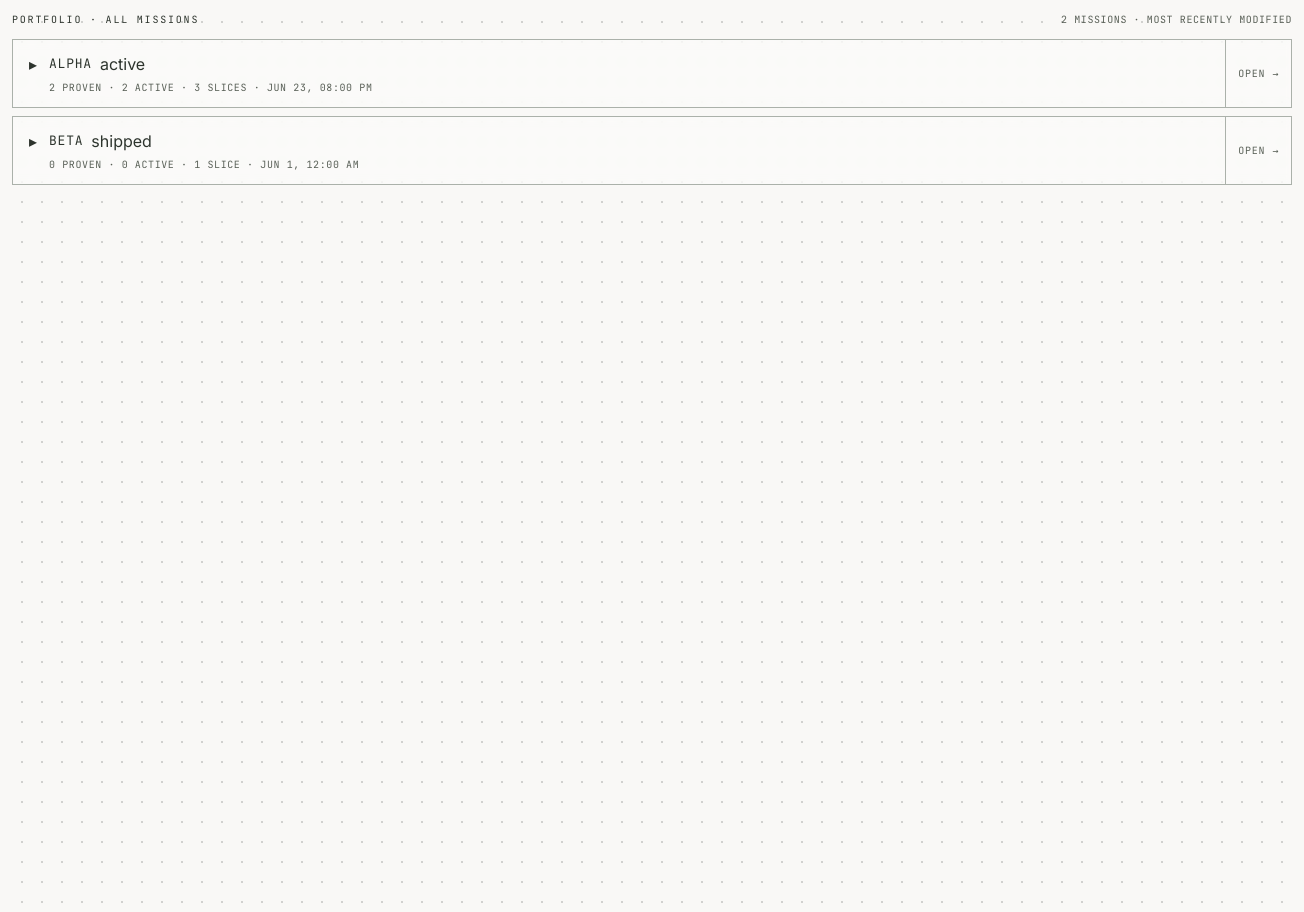
Test case: OPR.0.4.1.24 — workspace portfolio › AC-3: expanding a row LAZILY projects the mission's MISSION_BRIEF Building + Needs-you
This screenshot has width=1304, height=912.
Click the button with test id "portfolio-toggle-alpha": (70,64) [13,40,1225,107]
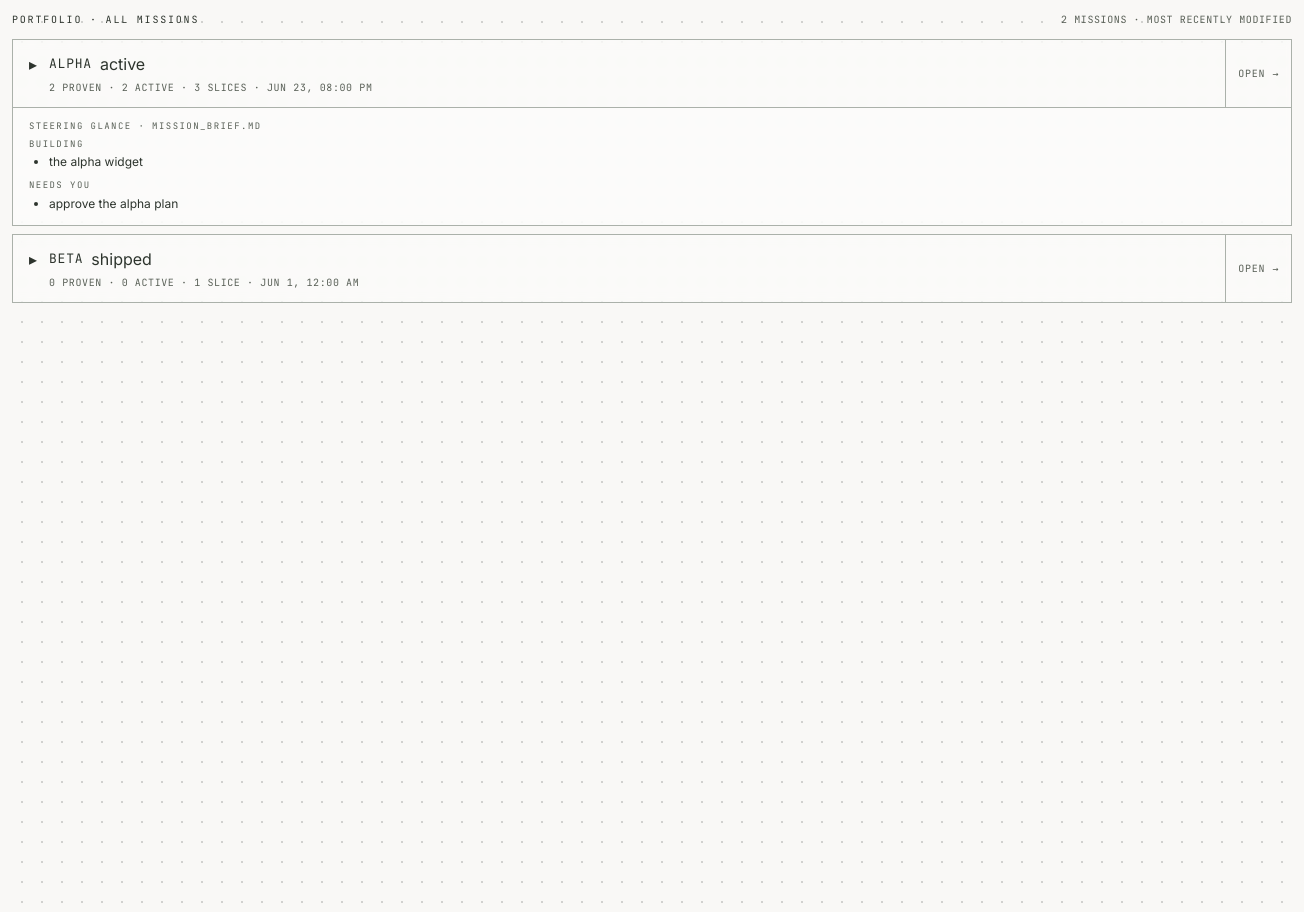
Now the element with test id "portfolio-glance-alpha" is shown, box [29,138,178,210]
Now the element with test id "portfolio-glance-alpha" shows "the alpha widget", box [49,154,143,169]
Now the element with test id "portfolio-glance-alpha" shows "approve the alpha plan", box [49,196,178,210]
